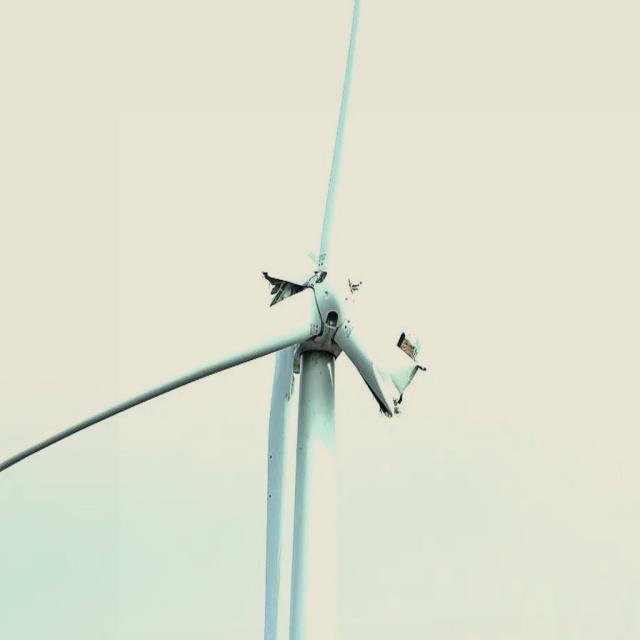crack: (244, 259, 434, 428)
